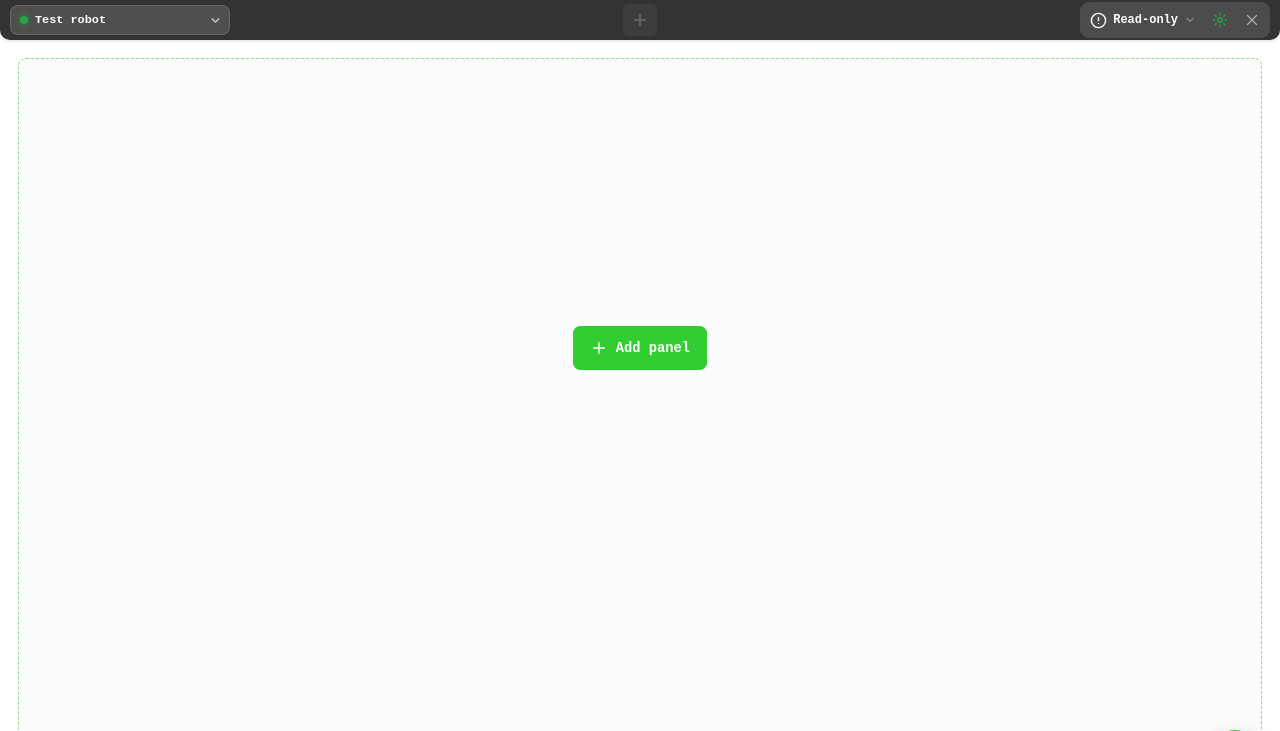
MainControlView desktop workspace › discovers ROS 2 image topics for camera panels
Click the button with aria-label "Add workspace panel".
click(640, 348)  # box [573,326,707,370]
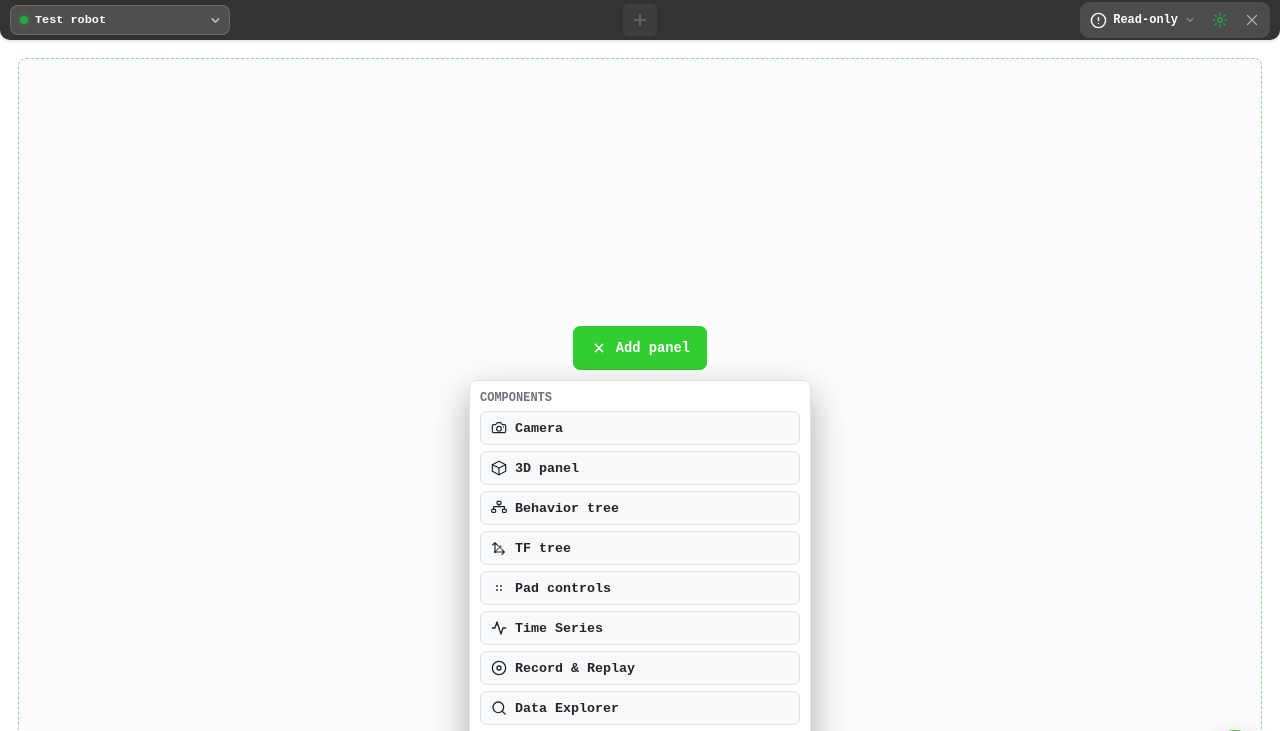
Click the button "Camera".
click(539, 428)  # box [480,411,800,445]
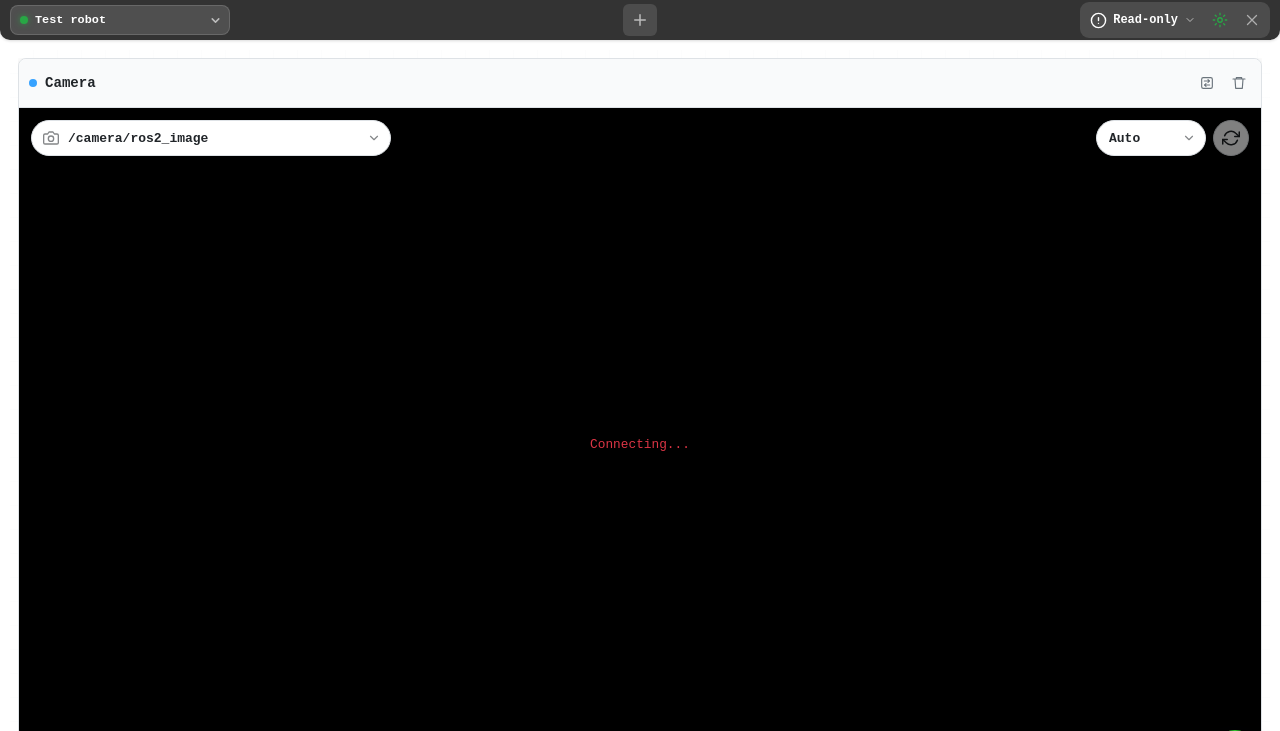
Result: the dropdown named "Camera topic" shows "/camera/ros2_image" at [31,120,391,156]
